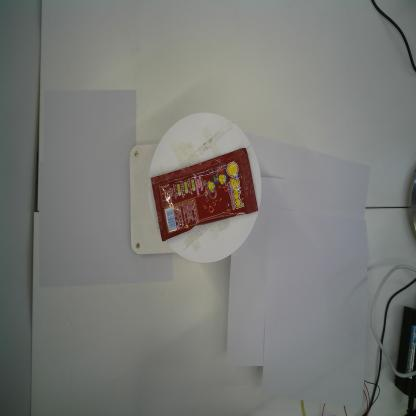Candy: (150, 147, 259, 242)
